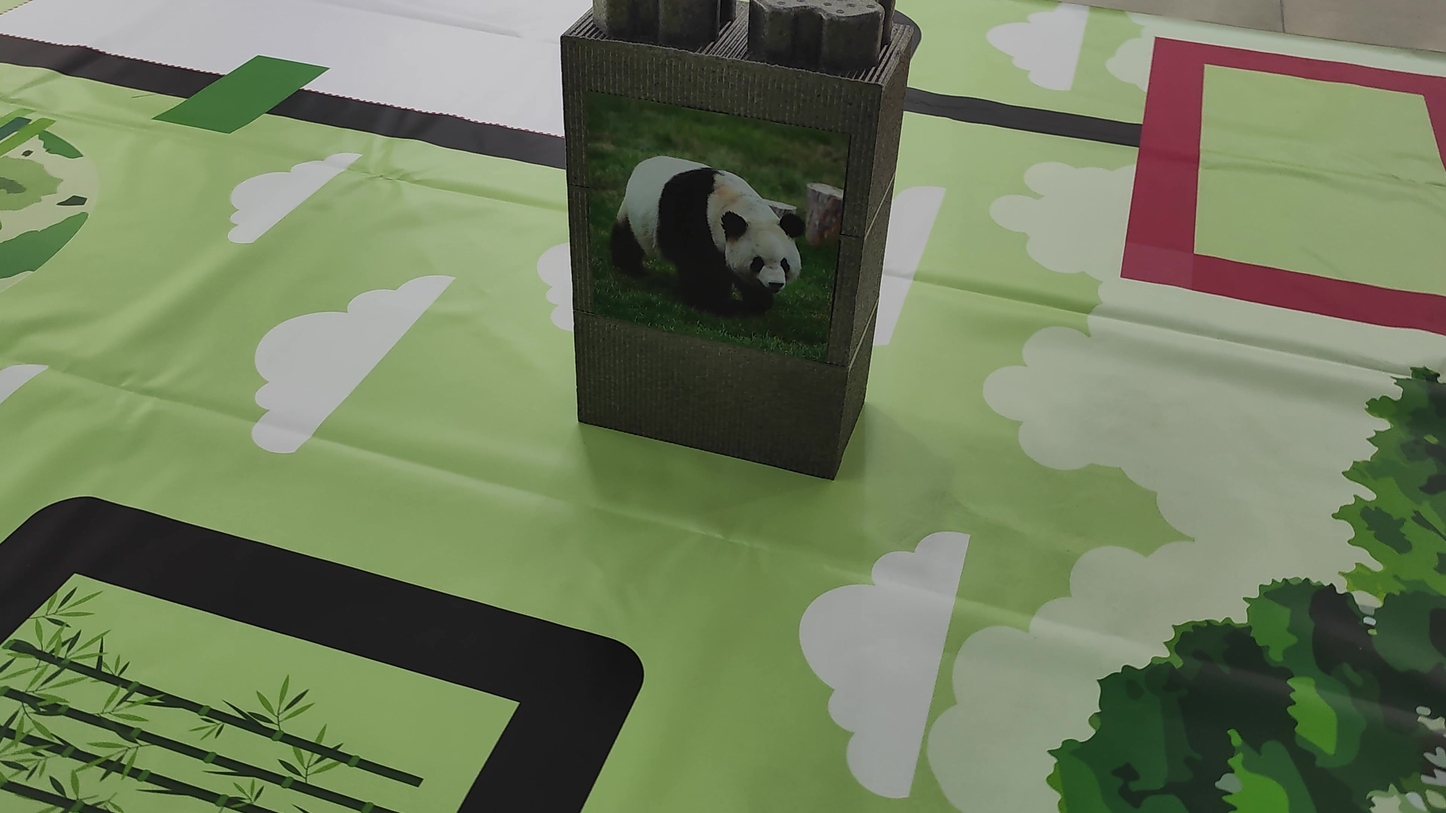panda: (580, 134, 837, 339)
